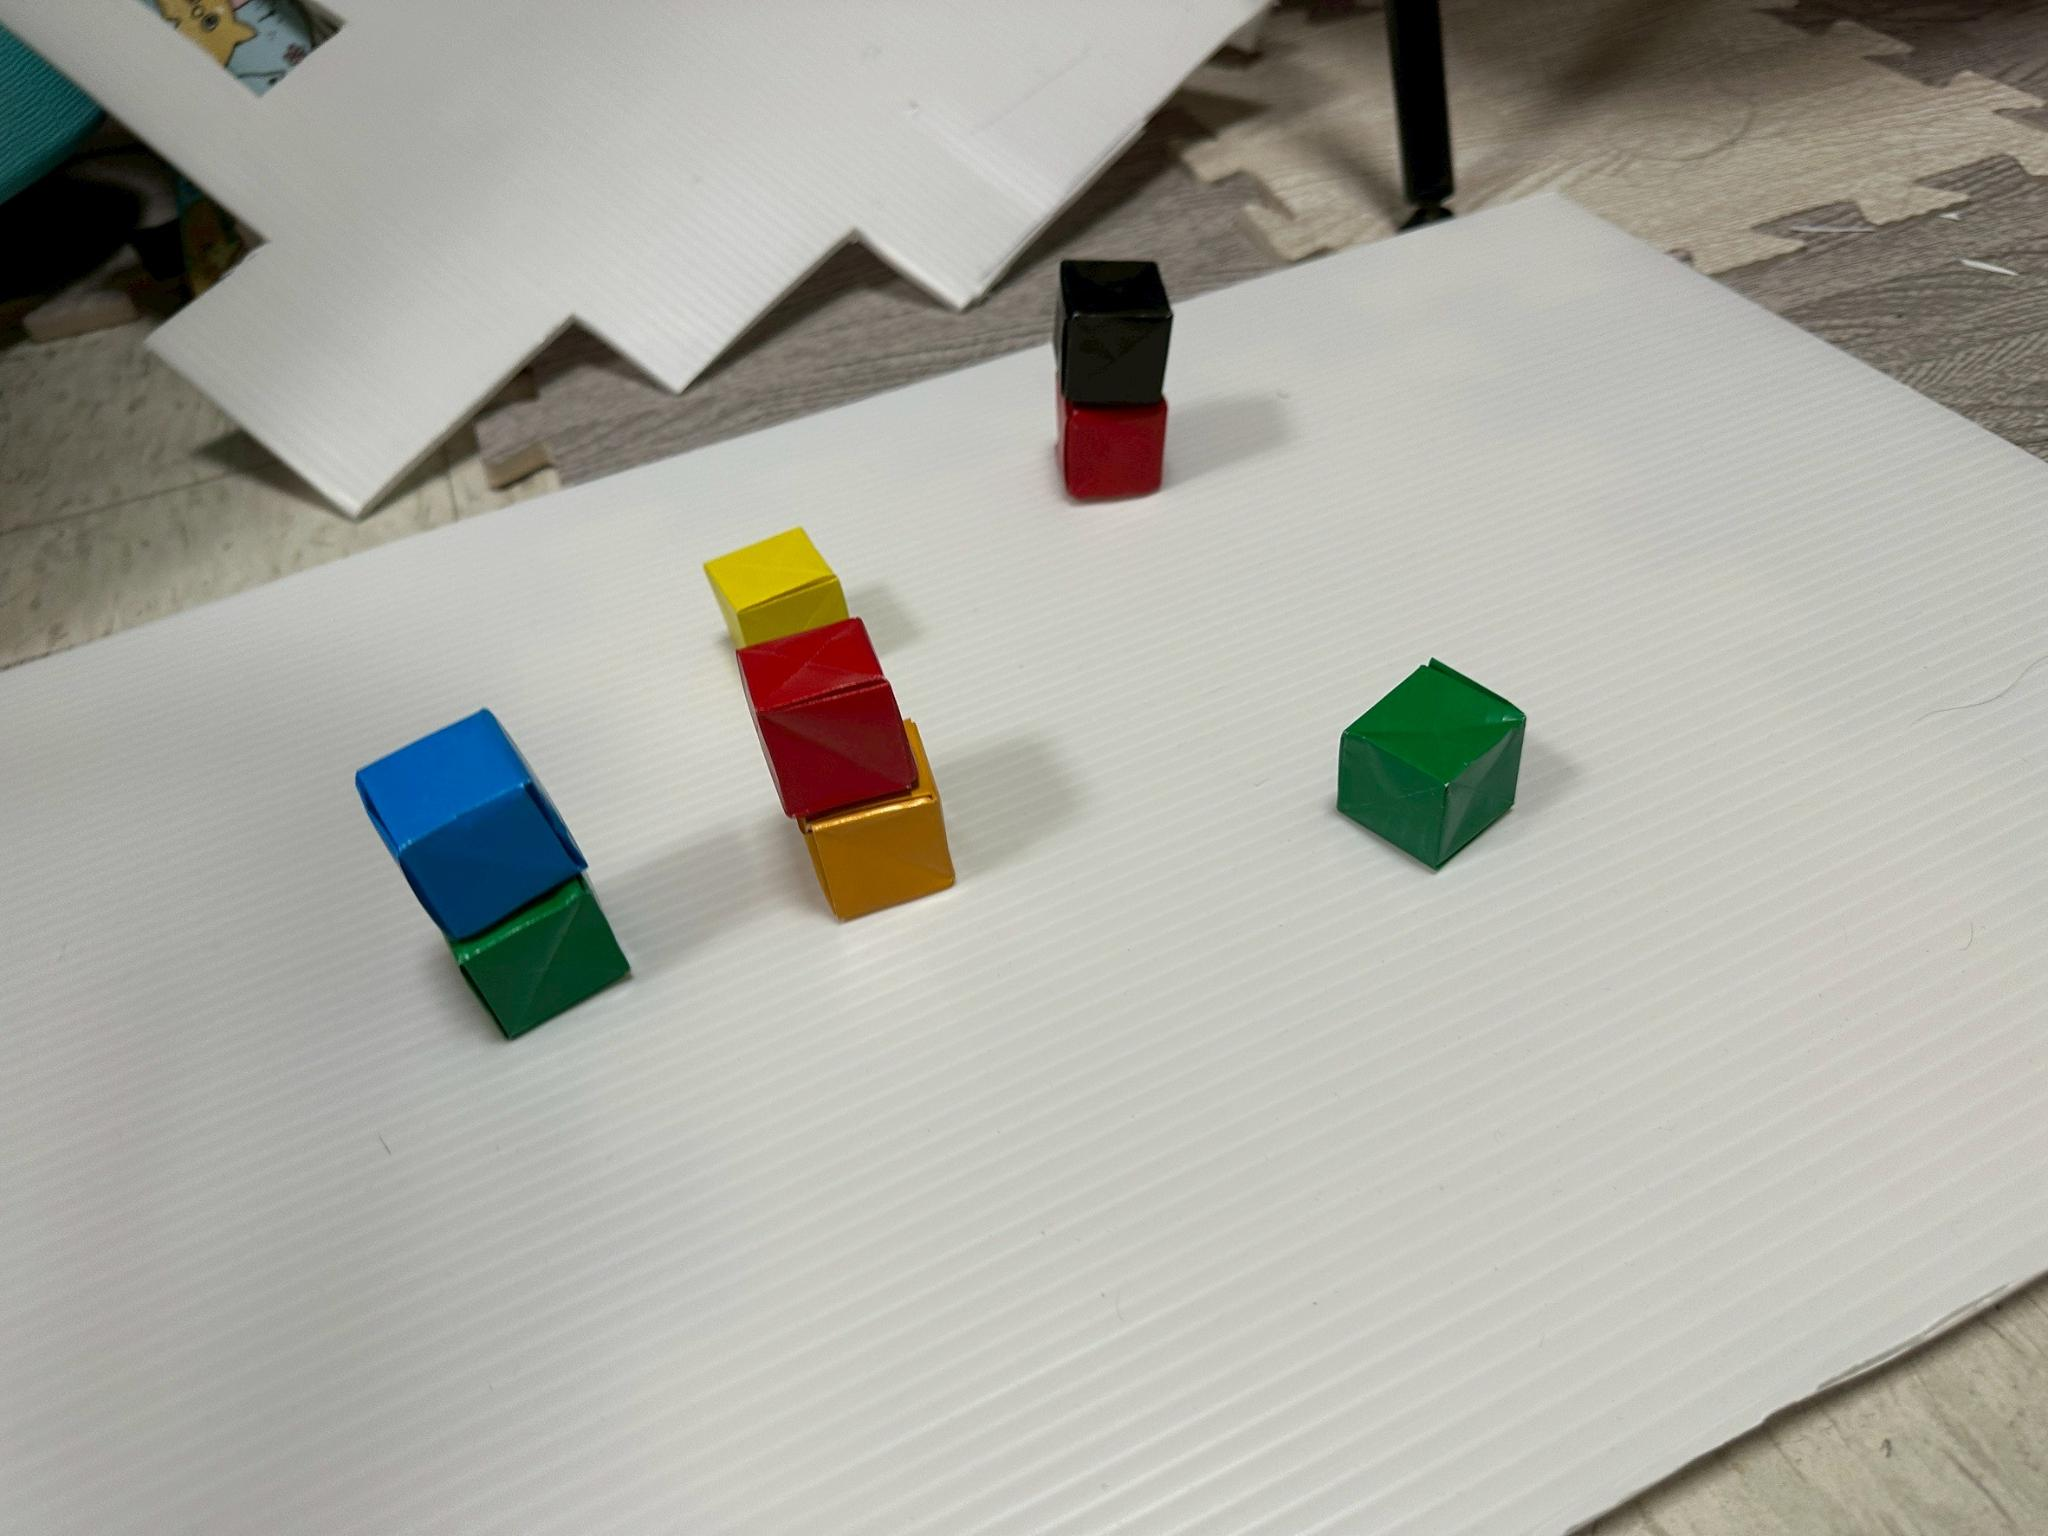cube: (356, 710, 587, 939), (1338, 662, 1526, 870), (739, 618, 918, 820), (800, 721, 953, 921), (450, 876, 629, 1039), (703, 529, 850, 649), (1056, 260, 1171, 408), (1056, 379, 1168, 500), (882, 873, 892, 881)
